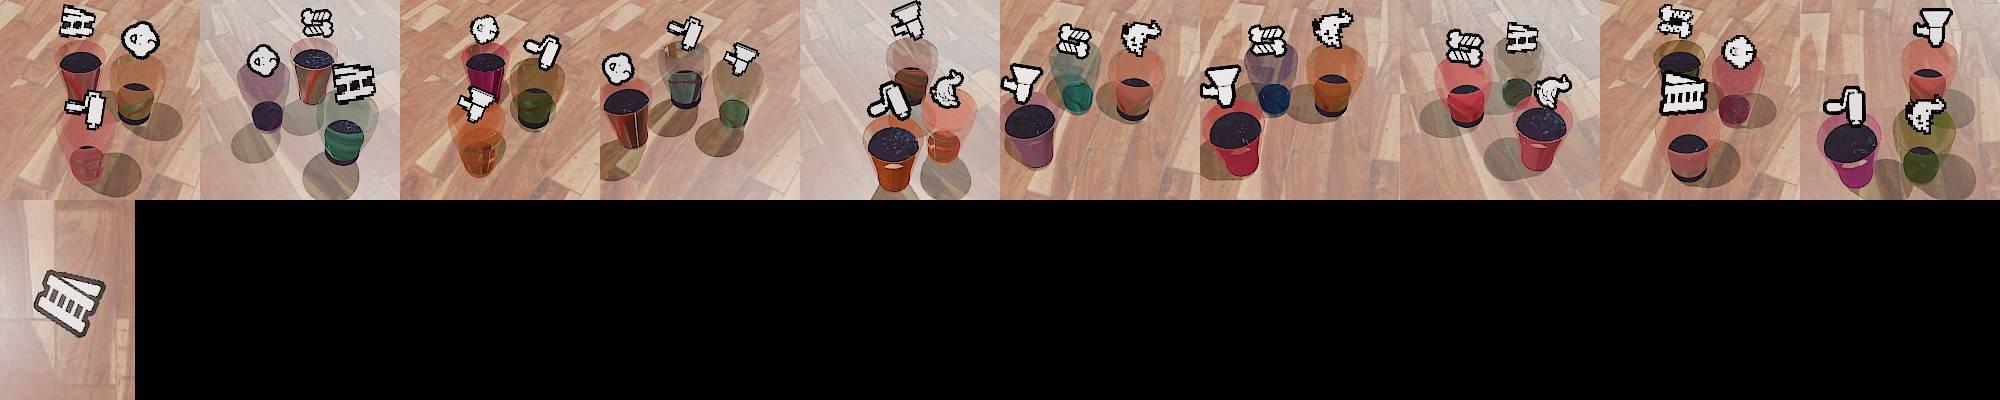icon: (32, 269, 106, 339), (1658, 71, 1709, 117), (330, 62, 378, 106), (866, 78, 915, 120), (1823, 83, 1869, 126), (62, 88, 107, 130), (1000, 62, 1042, 106), (1200, 64, 1241, 108), (1904, 96, 1946, 135), (927, 68, 966, 111), (1311, 9, 1351, 50), (1120, 18, 1161, 57), (1915, 8, 1954, 47), (522, 33, 562, 71), (1246, 22, 1288, 59), (666, 15, 705, 54), (458, 85, 497, 124), (1445, 28, 1485, 66), (1054, 22, 1093, 60), (121, 19, 159, 59), (1534, 73, 1574, 110), (889, 0, 925, 41), (59, 3, 97, 39), (722, 41, 759, 76), (1721, 34, 1758, 70), (1657, 4, 1695, 38), (1504, 20, 1541, 55), (245, 43, 281, 78), (300, 6, 335, 38), (601, 52, 634, 85), (469, 14, 500, 45)
